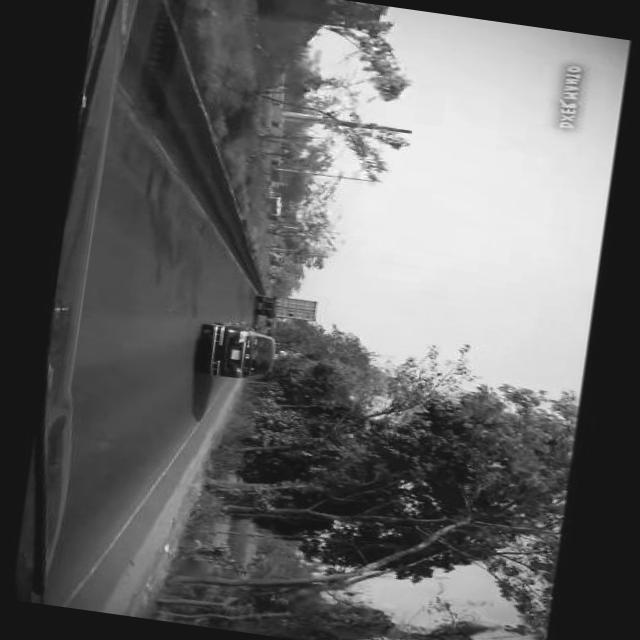car: (192, 318, 281, 388)
truck: (253, 293, 320, 326), (270, 253, 288, 270), (266, 319, 288, 332)
